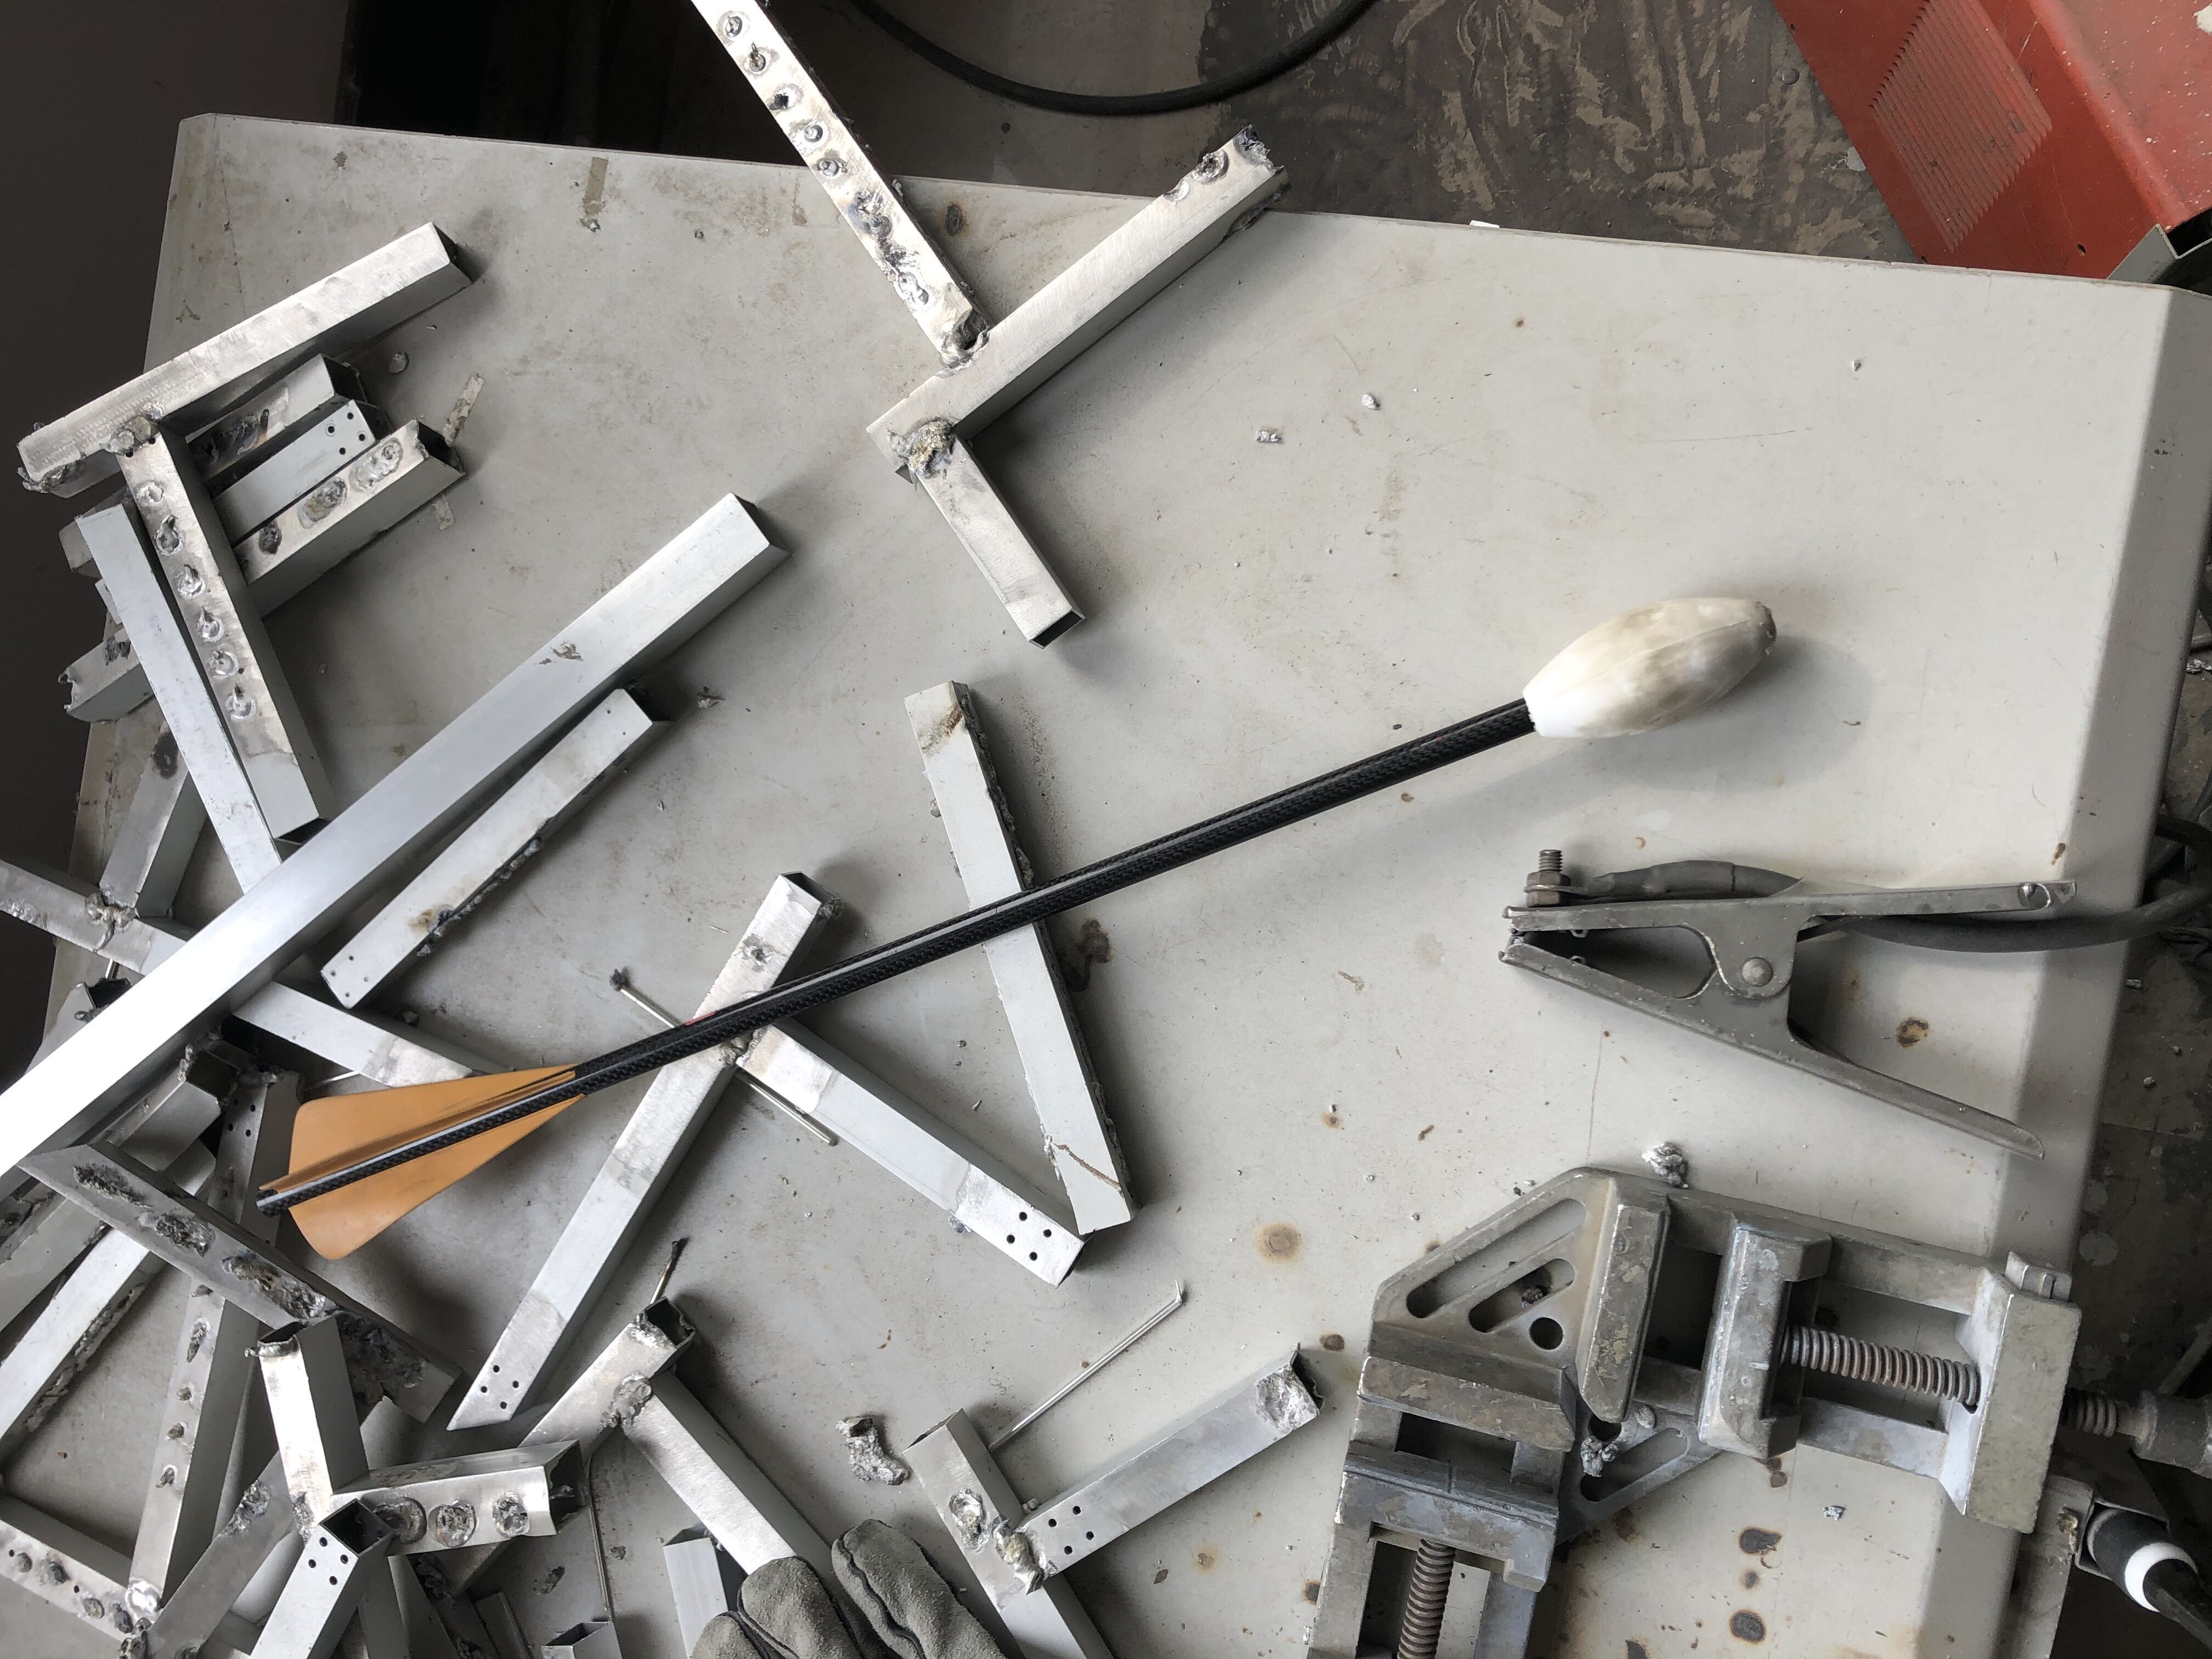arrow: (254, 589, 1780, 1260)
arrowFront: (1521, 587, 1782, 749)
